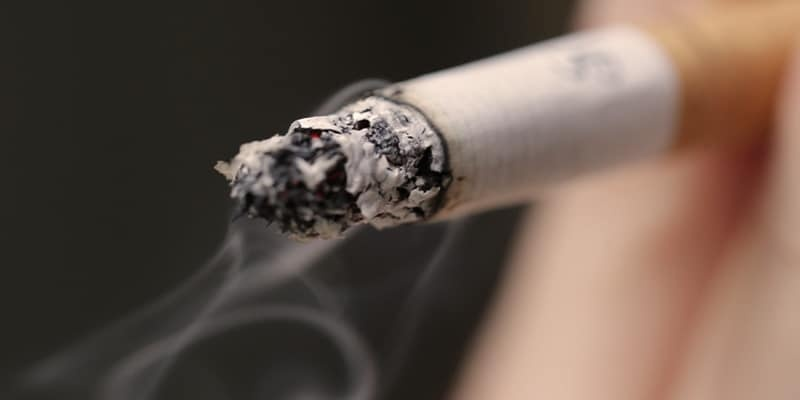sigaretta: (206, 46, 723, 240)
